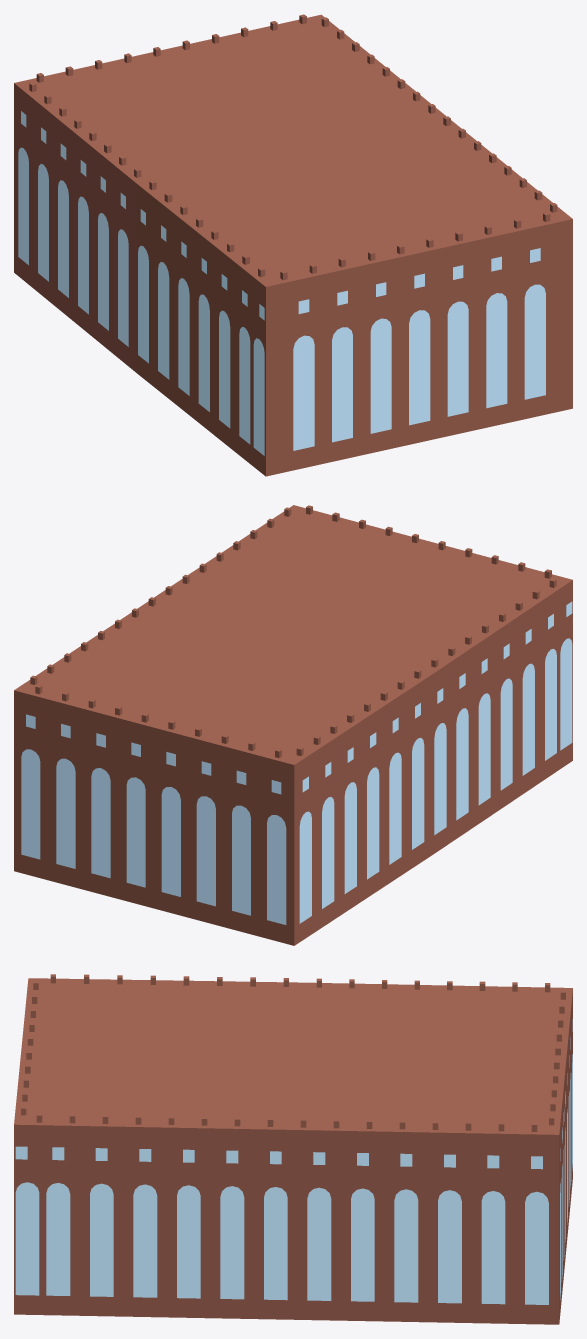
File: detail.glb
The picture shows the model from 3 angles, top to bottom: view 1: azimuth 30°, elevation 25°; view 2: azimuth 150°, elevation 25°; view 3: azimuth 270°, elevation 25°; orthographic projection. The views are drawn at different scales.
Parts seen in each view (by area): view 1: stone, window; view 2: stone, window; view 3: stone, window.
Boxes of the visible parts, left/top/right/bottom form: stone: left=14, top=14, right=572, bottom=476; window: left=18, top=111, right=545, bottom=455; stone: left=14, top=505, right=572, bottom=945; window: left=21, top=601, right=572, bottom=924; stone: left=14, top=974, right=572, bottom=1324; window: left=15, top=1019, right=572, bottom=1304.
Bounding box in the file's own units: 34.2 × 20 × 51.5.
